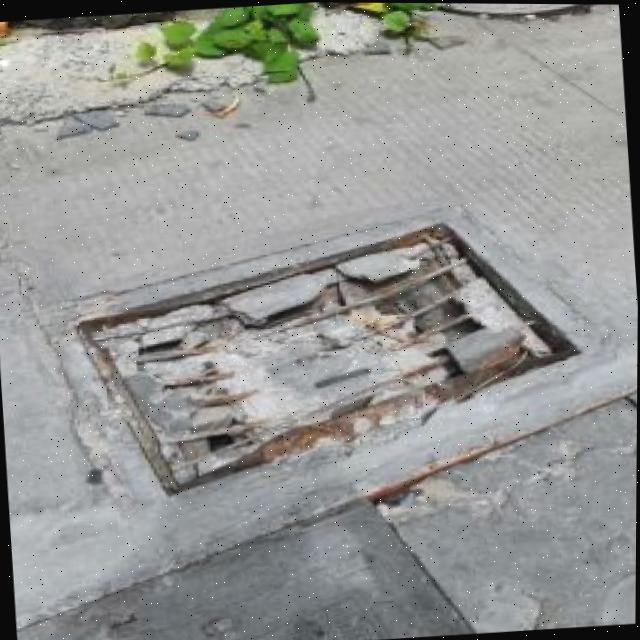manhole: (19, 190, 600, 505)
